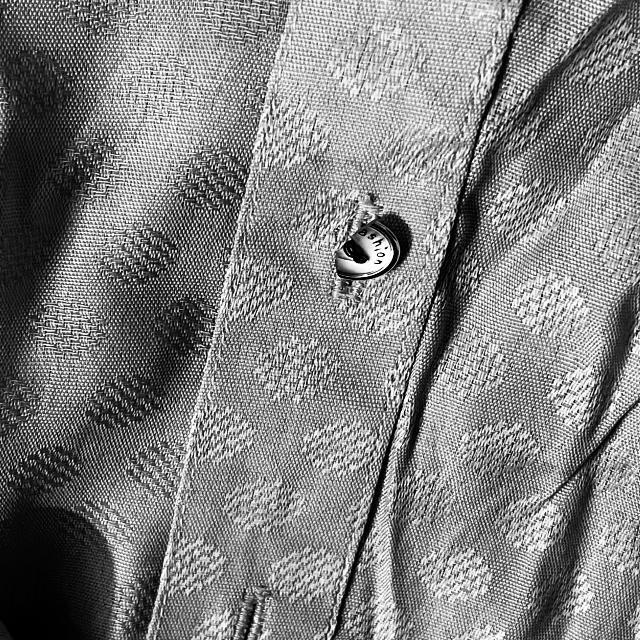Broken_button: (320, 215, 412, 292)
